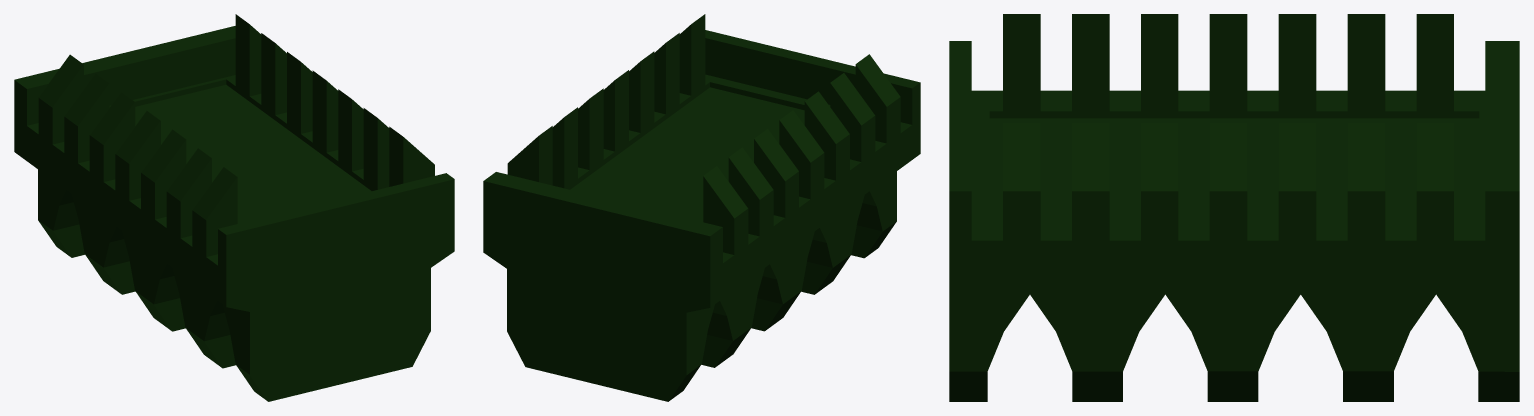
The model's file is gate-top-2.fbx.
3 views of the same model, side by side, from view 1: azimuth 30°, elevation 25°; view 2: azimuth 150°, elevation 25°; view 3: azimuth 270°, elevation 25° (orthographic). The views are drawn at different scales.
Visible parts, largest first — view 1: gate-top-2; view 2: gate-top-2; view 3: gate-top-2.
Boxes of the visible parts, box(x1,y1,x2,y2) form: gate-top-2: box(14, 14, 454, 401); gate-top-2: box(483, 14, 920, 401); gate-top-2: box(949, 14, 1519, 401).
Size of the model in its own units: 4.49 by 4 by 7.22.
